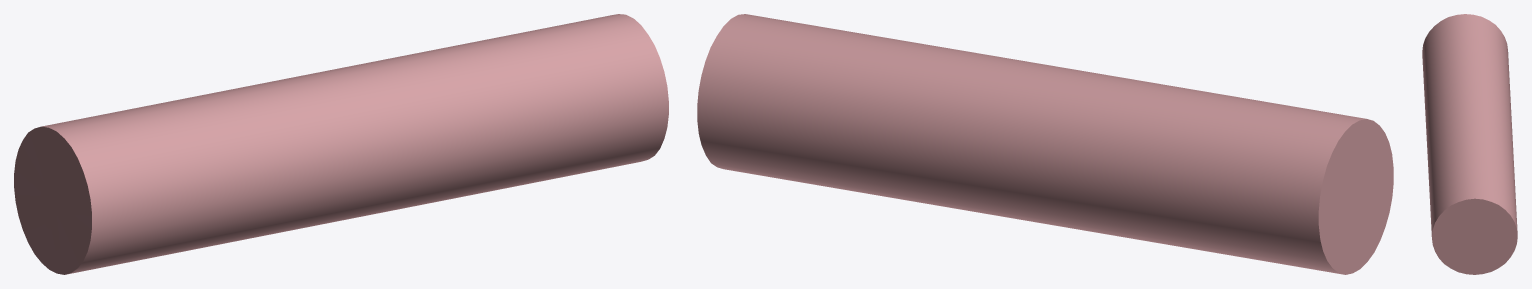
File: fma53136-r_mm2134m.glb
3 renders of one model, left to right at view 1: azimuth 30°, elevation 25°; view 2: azimuth 150°, elevation 25°; view 3: azimuth 270°, elevation 25°, orthographic. The views are drawn at different scales.
Parts seen in each view (by area): view 1: FMA53136-R_MM2134M; view 2: FMA53136-R_MM2134M; view 3: FMA53136-R_MM2134M.
Boxes of the visible parts, <box> form: FMA53136-R_MM2134M: <box>14,14,668,274</box>; FMA53136-R_MM2134M: <box>697,14,1393,274</box>; FMA53136-R_MM2134M: <box>1422,14,1517,274</box>.
Size of the model in its own units: 0.00852 by 0.00236 by 0.00207.
